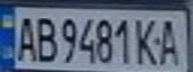1: (112, 15, 133, 65)
4: (75, 13, 96, 64)
8: (93, 16, 115, 64)
9: (57, 14, 78, 63)
A: (154, 15, 184, 67), (12, 11, 39, 63)
B: (33, 12, 57, 63)
K: (133, 15, 163, 66)
